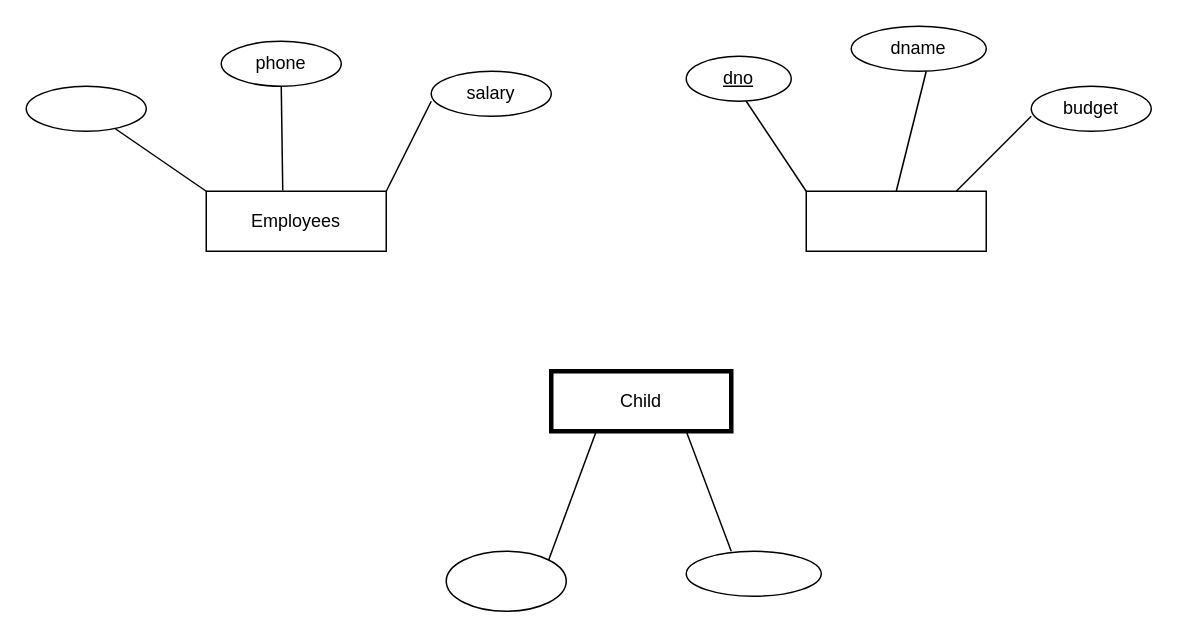
The diagram is 1178 pixels wide and 638 high, and some of its shapes have lost their labels. Here are the shapes that lost their labels. From the top down, the centre of each, then its label:
At point (85, 108): "ssn".
At point (895, 220): "Departments".
At point (505, 580): "name".
At point (753, 573): "age".
